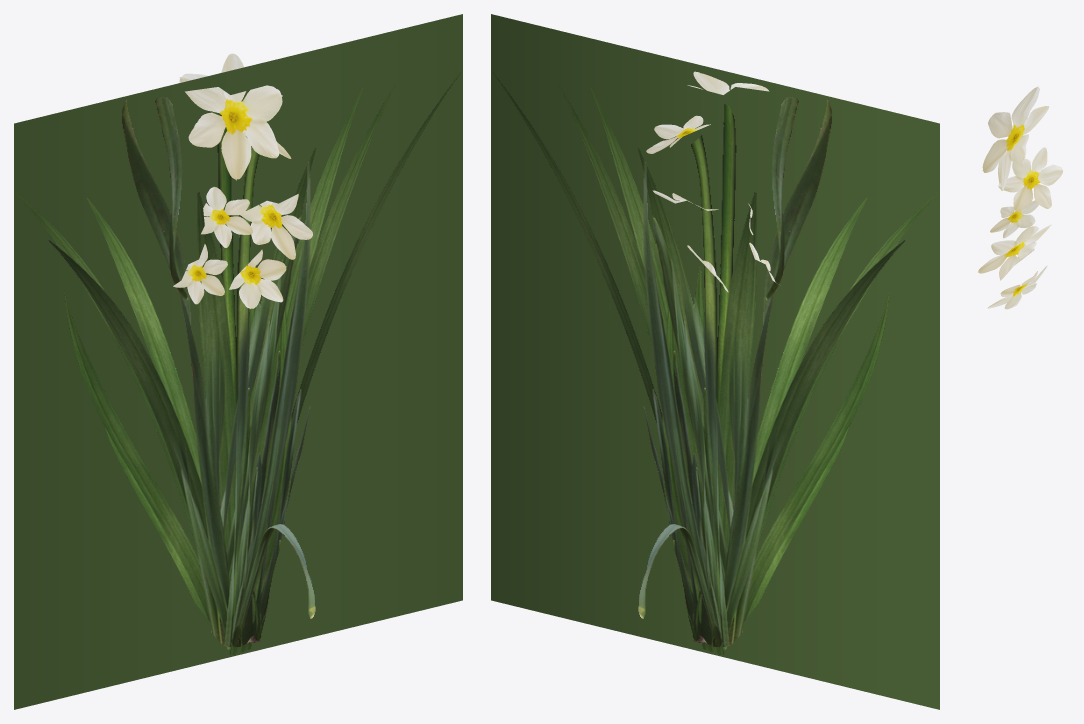
Rendered from narciso_blanco.obj.
The picture shows the model from 3 angles, left to right: view 1: azimuth 30°, elevation 25°; view 2: azimuth 150°, elevation 25°; view 3: azimuth 270°, elevation 25°; orthographic projection. The views are drawn at different scales.
Visible parts, largest first — view 1: narciso_blanco; view 2: narciso_blanco; view 3: narciso_blanco.
Part boxes in pixels (bbox=[...]): narciso_blanco: bbox=[14, 14, 462, 709]; narciso_blanco: bbox=[491, 14, 939, 709]; narciso_blanco: bbox=[978, 86, 1063, 309].
Size of the model in its own units: 0.311 by 0.4 by 0.0702.
